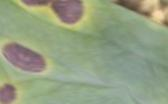Tomato Early blight leaf: (1, 0, 155, 104)
